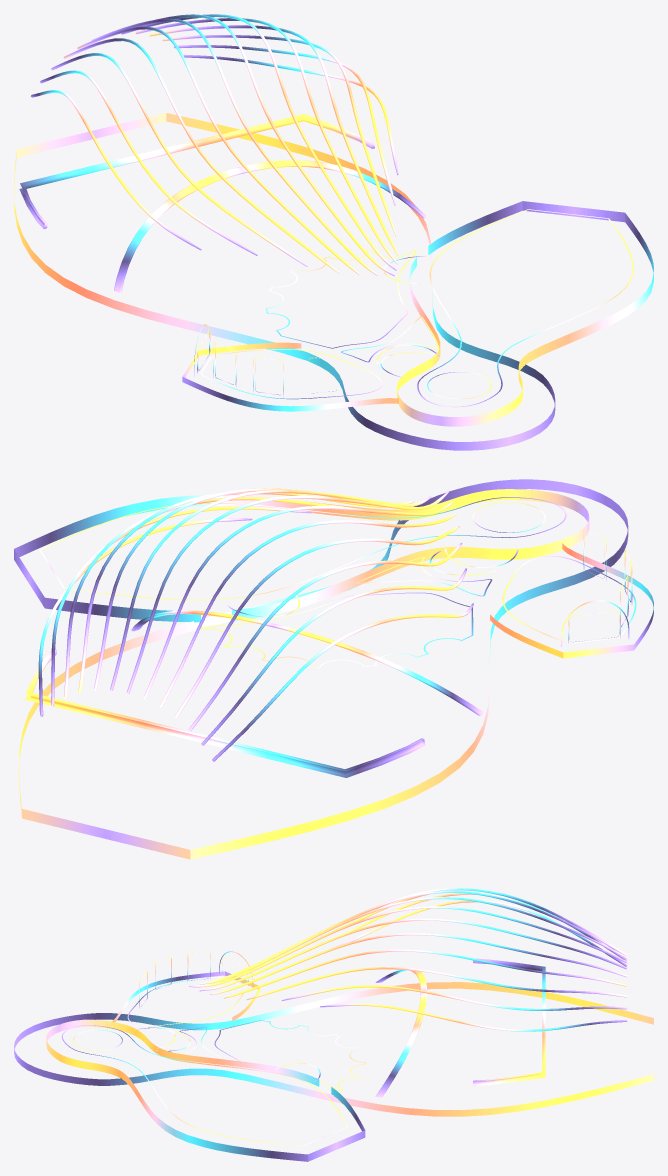
Rendered from neons-animated.gltf.
The picture shows the model from 3 angles, top to bottom: view 1: azimuth 30°, elevation 25°; view 2: azimuth 150°, elevation 25°; view 3: azimuth 270°, elevation 25°; orthographic projection. The views are drawn at different scales.
Visible parts, largest first — view 1: neon-gradient; view 2: neon-gradient; view 3: neon-gradient.
Boxes of the visible parts, box(x1,y1,x2,y2) form: neon-gradient: box(14, 14, 653, 450); neon-gradient: box(14, 479, 653, 859); neon-gradient: box(14, 888, 653, 1161).
Bounding box in the file's own units: 59.83 × 22.61 × 87.15.
1 material, 1 textured.
